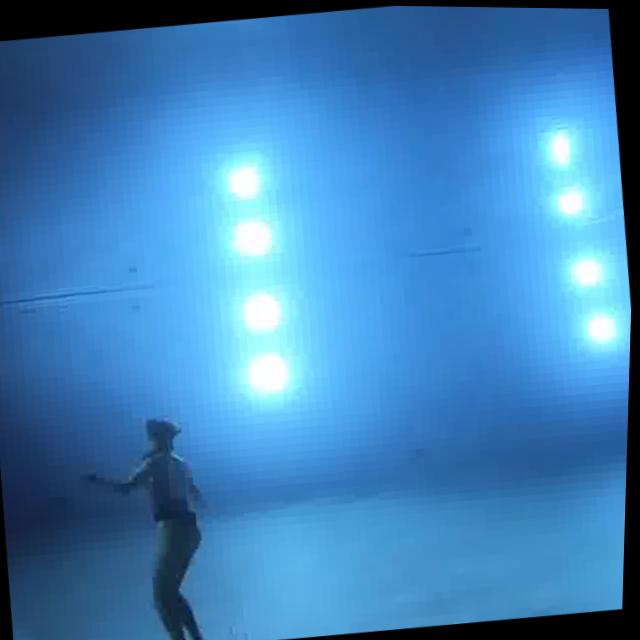human: (79, 397, 241, 640)
